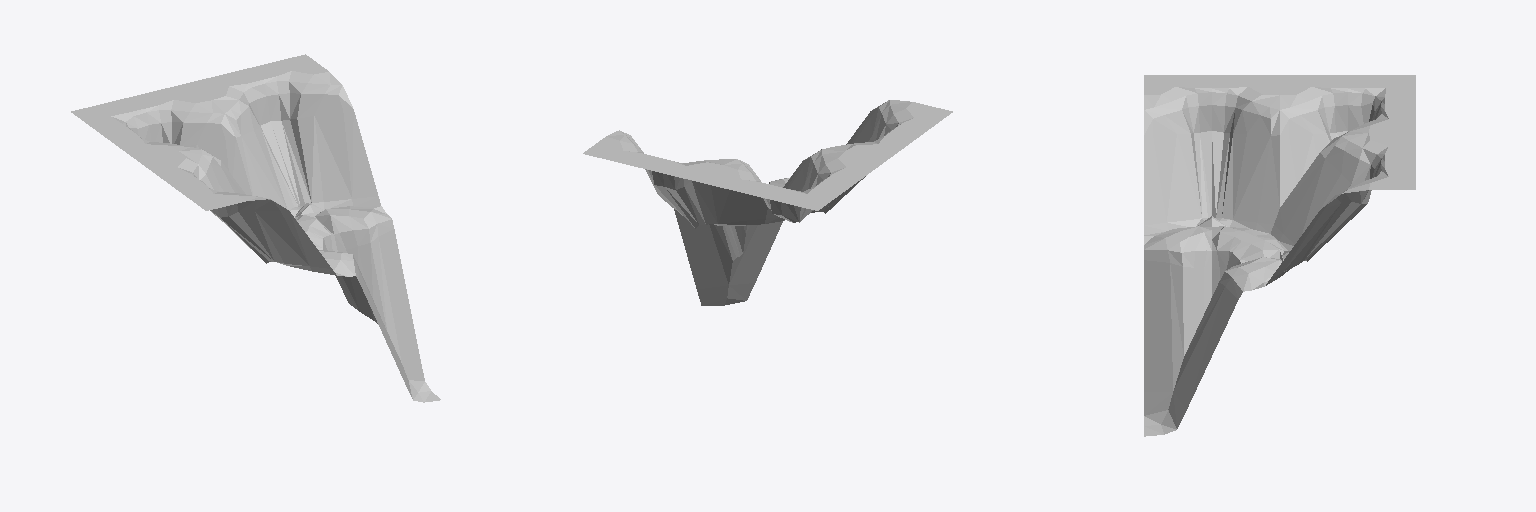
Rendered from Cliff-InsideEdge.obj.
The picture shows the model from 3 angles: view 1: azimuth 30°, elevation 25°; view 2: azimuth 150°, elevation 25°; view 3: azimuth 270°, elevation 25°; orthographic projection.
Parts seen in each view (by area): view 1: Cliff-InsideCorner_mesh.005; view 2: Cliff-InsideCorner_mesh.005; view 3: Cliff-InsideCorner_mesh.005.
Part boxes in pixels (x1,y1,x2,y2): Cliff-InsideCorner_mesh.005: (71,54,440,402); Cliff-InsideCorner_mesh.005: (583,100,952,305); Cliff-InsideCorner_mesh.005: (1144,75,1415,436).
Size of the model in its own units: 2 by 2 by 2.